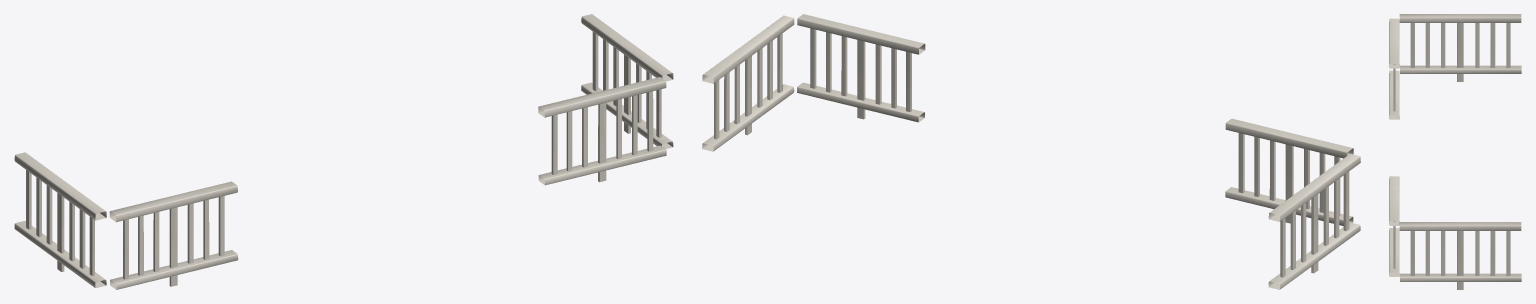
File: Barandillas_Madera_Fachada.obj
The picture shows the model from 3 angles, left to right: view 1: azimuth 30°, elevation 25°; view 2: azimuth 150°, elevation 25°; view 3: azimuth 270°, elevation 25°; orthographic projection. The views are drawn at different scales.
Parts seen in each view (by area): view 1: Barandillas_Madera_Fachada; view 2: Barandillas_Madera_Fachada; view 3: Barandillas_Madera_Fachada.
Part boxes in pixels (<box>): Barandillas_Madera_Fachada: <box>14,14,673,289</box>; Barandillas_Madera_Fachada: <box>702,14,1360,289</box>; Barandillas_Madera_Fachada: <box>1389,14,1521,289</box>.
Size of the model in its own units: 6.11 by 0.88 by 1.61.
